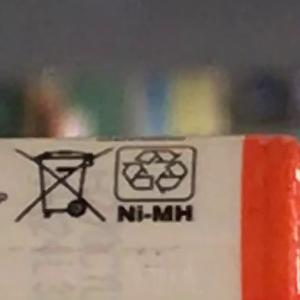keyword: (107, 195, 203, 232)
